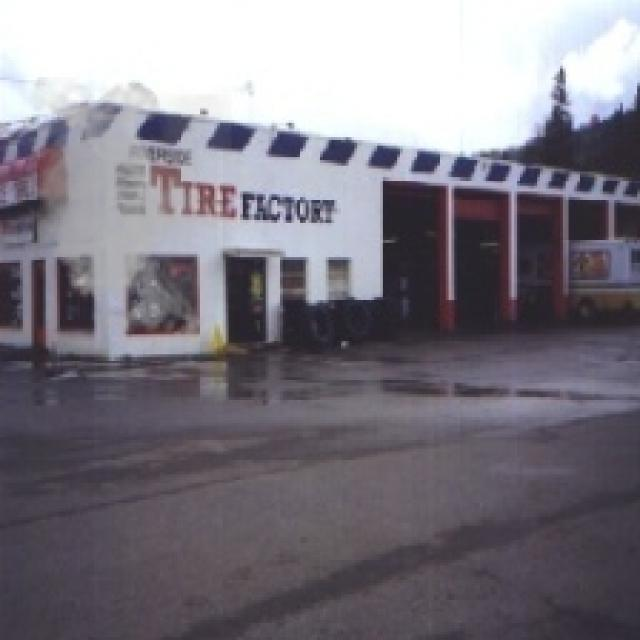Smoke: (22, 77, 232, 349)
